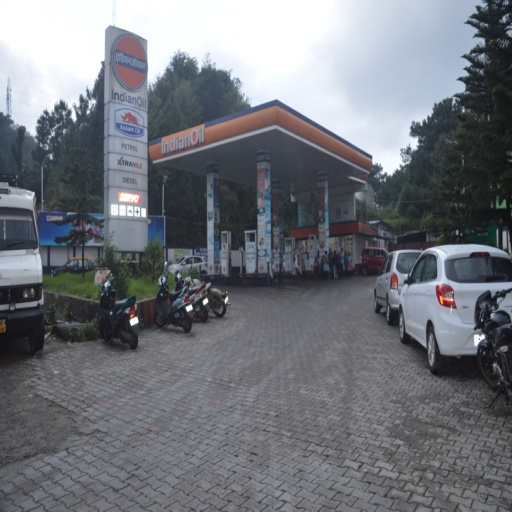roof: (151, 100, 368, 189)
